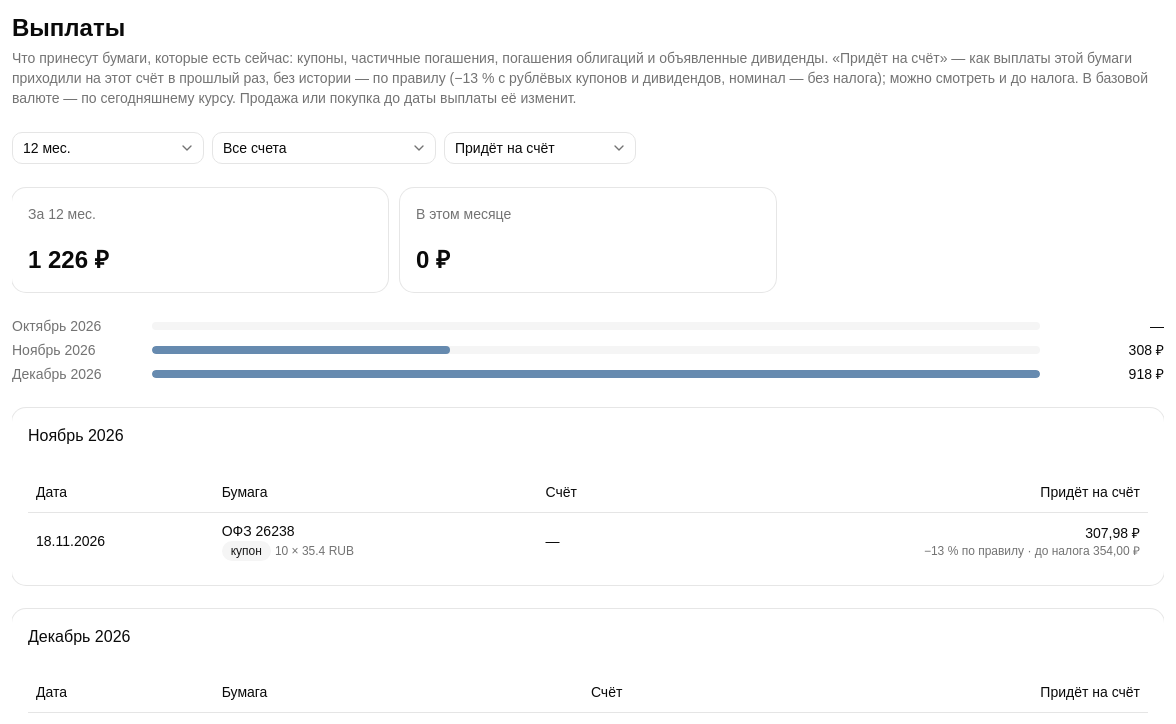
Test: PayoutsPage › shows what reaches the accounts unless picked otherwise, saying where it comes from
Expected: the element with test id "payouts-total" reads "За 12 мес. 1 226 ₽", top-left (28, 246), bottom-right (109, 273)
Click the dropdown named "Суммы": (540, 148) top-left (444, 132), bottom-right (636, 164)
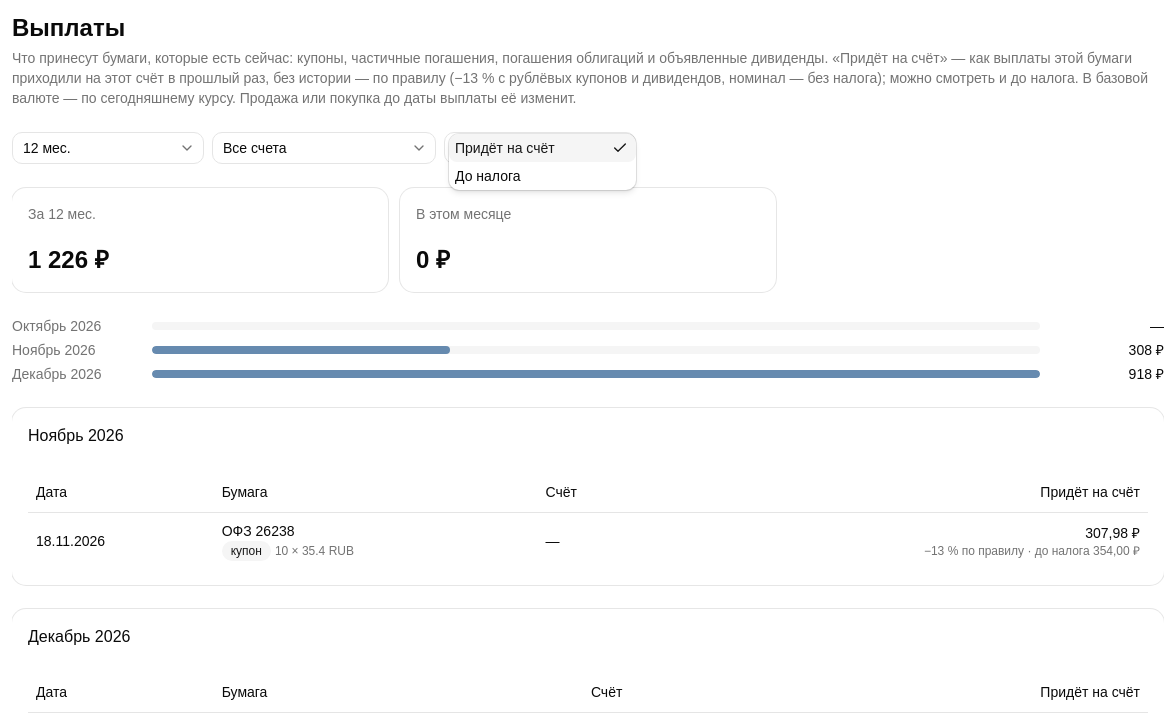
Click the option "До налога": (488, 176) top-left (455, 168), bottom-right (520, 184)
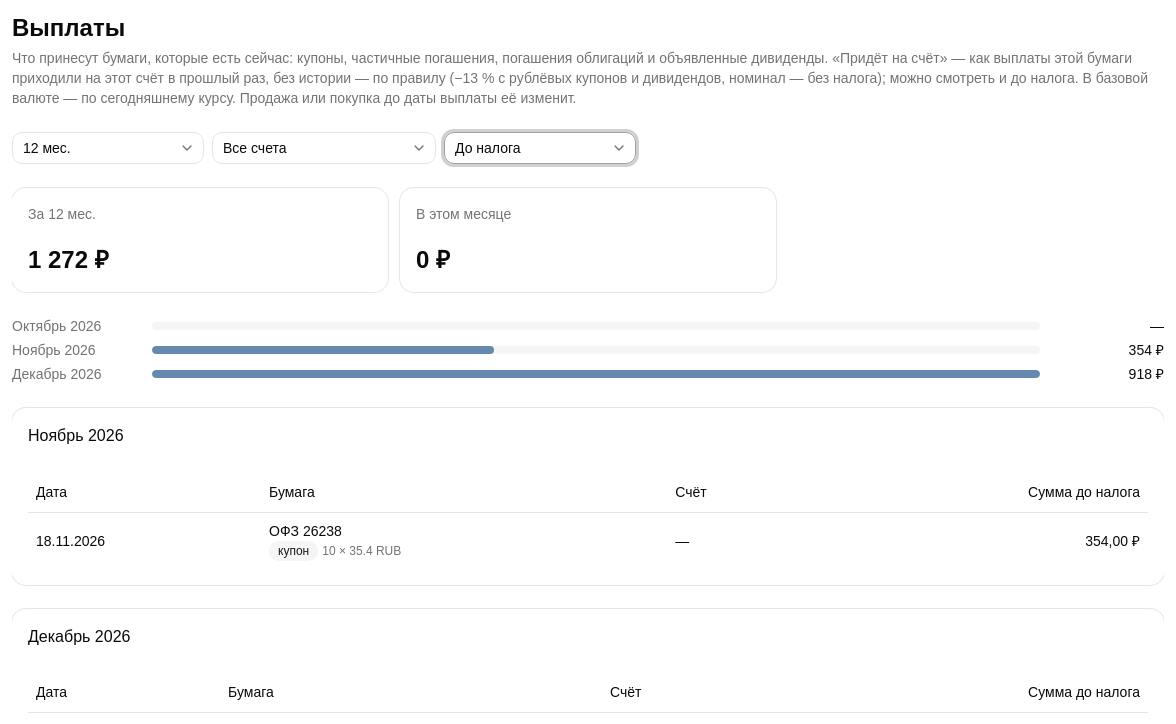
Expected: the element with test id "payouts-total" reads "За 12 мес. 1 272 ₽", top-left (28, 246), bottom-right (109, 273)
Expected: the text with test id "payout-net-by" is gone
